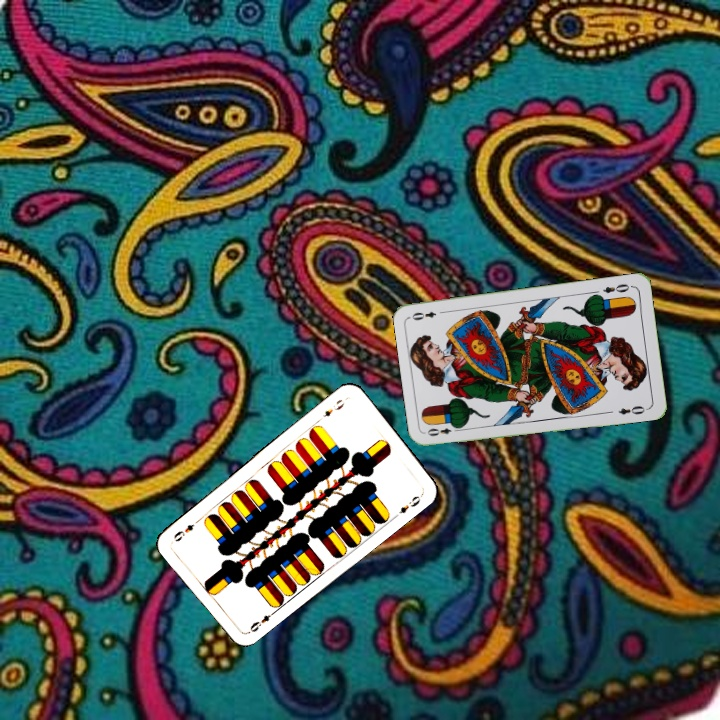E9: (246, 607, 278, 635), (319, 395, 347, 420)
EO: (423, 422, 463, 439), (599, 280, 635, 296)
